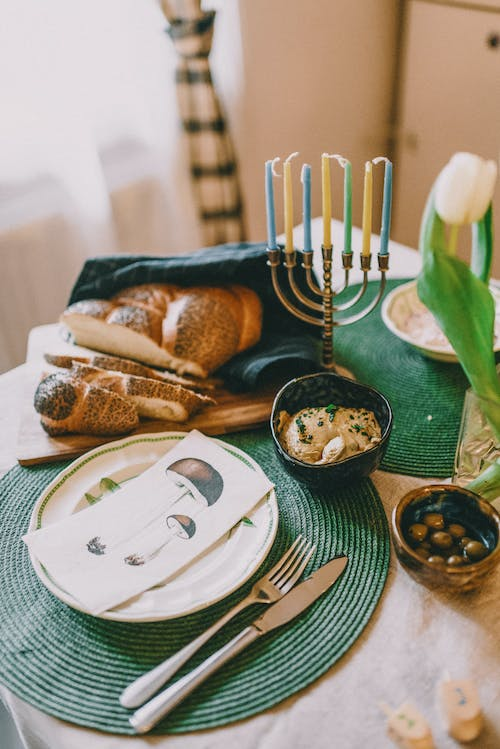knife: (125, 553, 350, 736)
